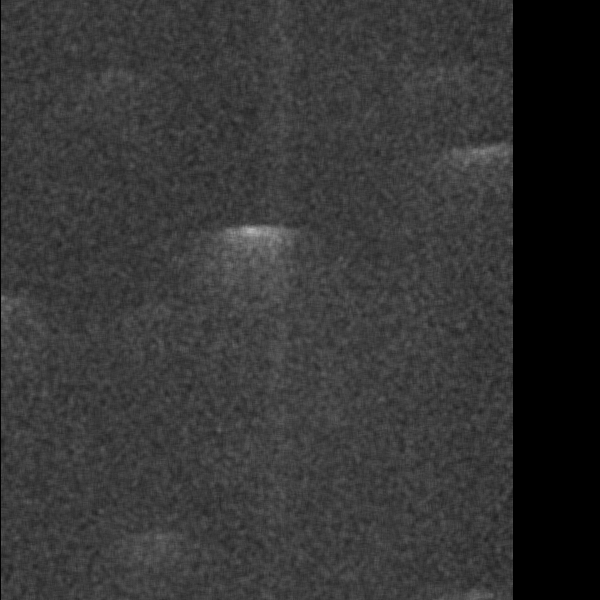spark: (190, 1, 270, 28), (81, 118, 131, 160), (402, 268, 443, 293), (210, 524, 240, 542)
